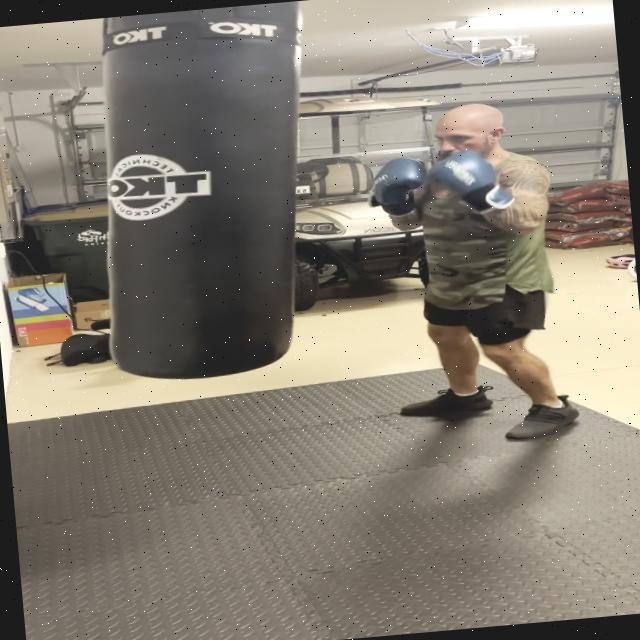bag: (43, 0, 342, 387)
no punch: (358, 85, 558, 248)
